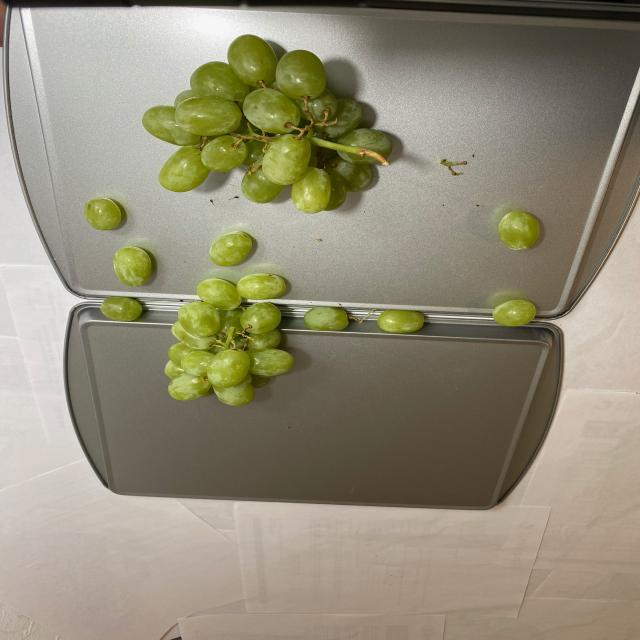grapes: (94, 39, 388, 403), (489, 212, 541, 329)
